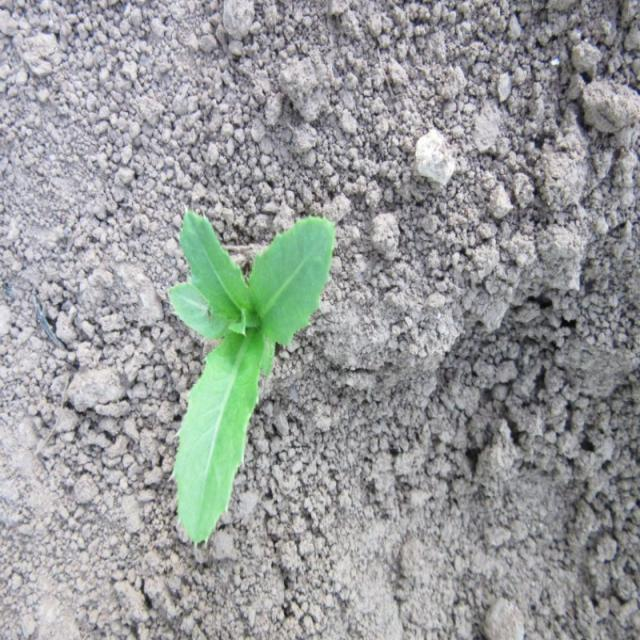cs: (166, 208, 337, 546)
